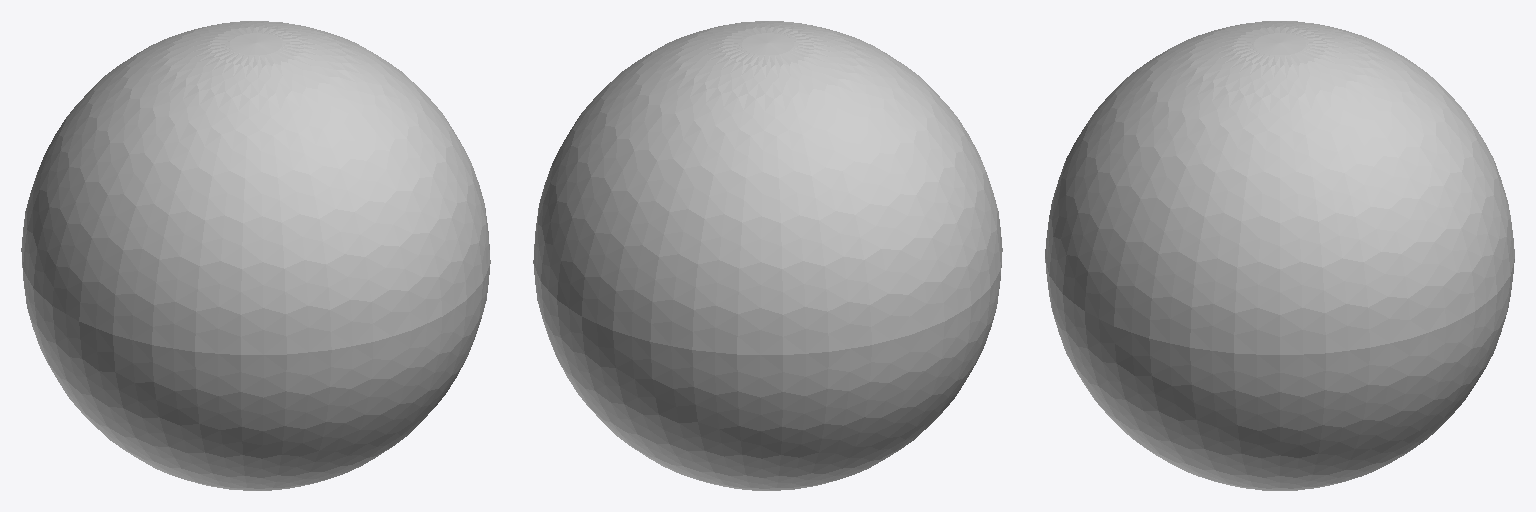
Rendered from ball.obj.
The picture shows the model from 3 angles: view 1: azimuth 30°, elevation 25°; view 2: azimuth 150°, elevation 25°; view 3: azimuth 270°, elevation 25°; orthographic projection.
Visible parts, largest first — view 1: 球体; view 2: 球体; view 3: 球体.
Boxes of the visible parts, <box> form: 球体: <box>21,21,490,490</box>; 球体: <box>533,21,1002,490</box>; 球体: <box>1045,21,1514,490</box>.
Size of the model in its own units: 1.99 by 1.99 by 1.99.